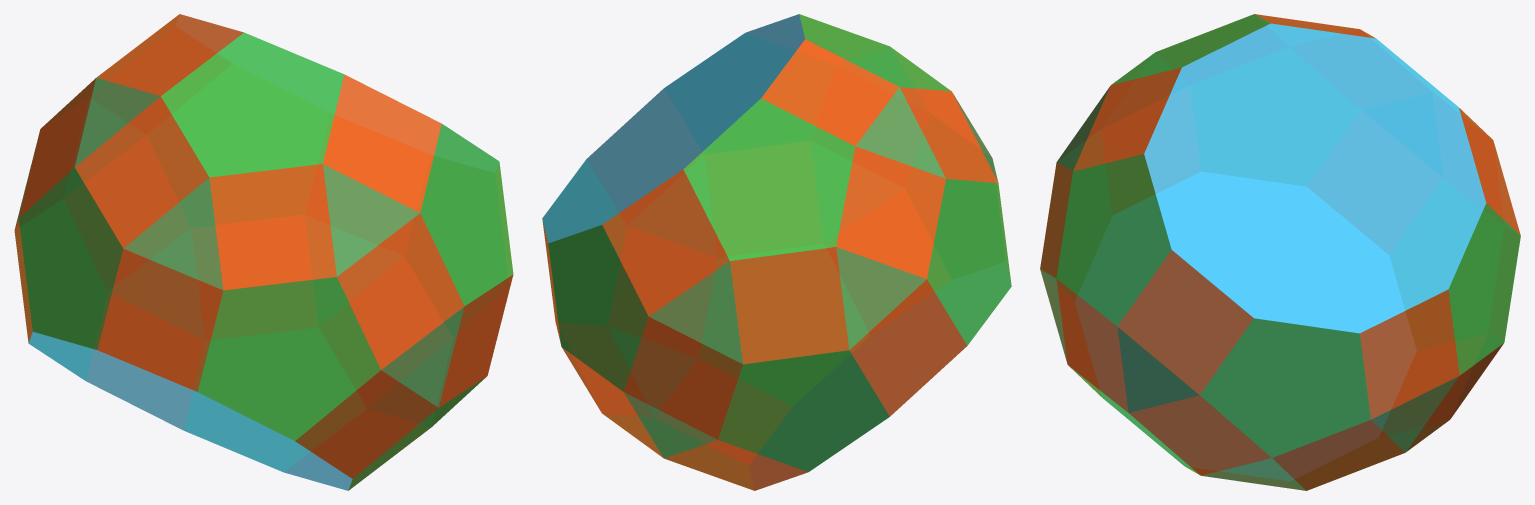
File: j80_parabidiminished_rhombicosidodecahedron.obj
3 views of the same model, side by side, from view 1: azimuth 30°, elevation 25°; view 2: azimuth 150°, elevation 25°; view 3: azimuth 270°, elevation 25° (orthographic). The views are drawn at different scales.
Size of the model in its own units: 1.96 by 1.99 by 1.99.
